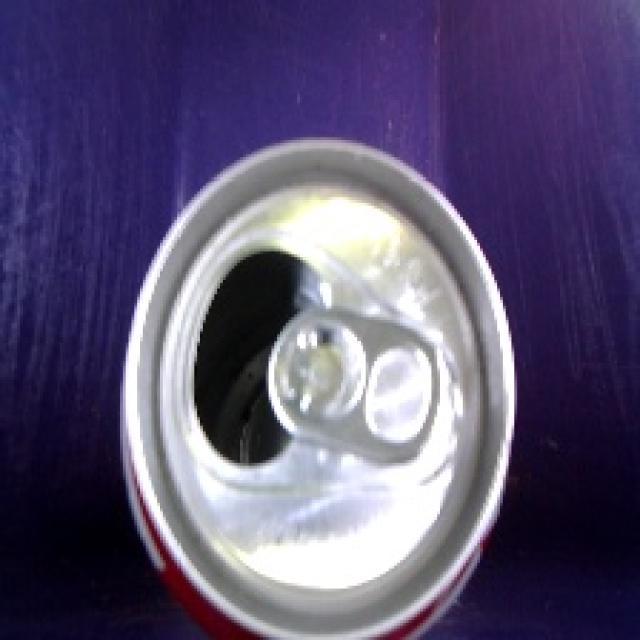metal: (97, 120, 540, 640)
